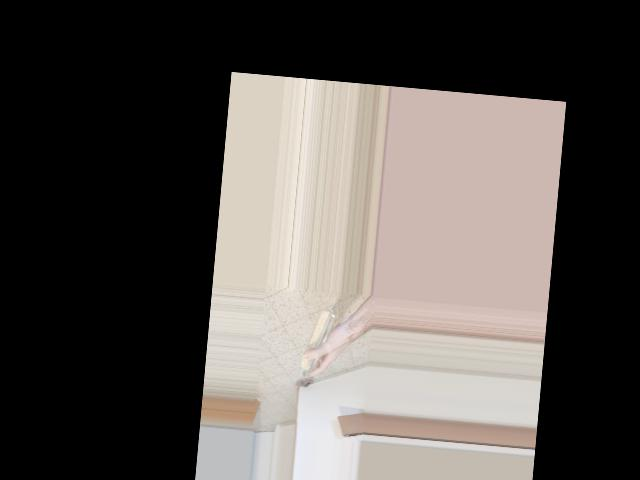cheese: (291, 313, 353, 383)
